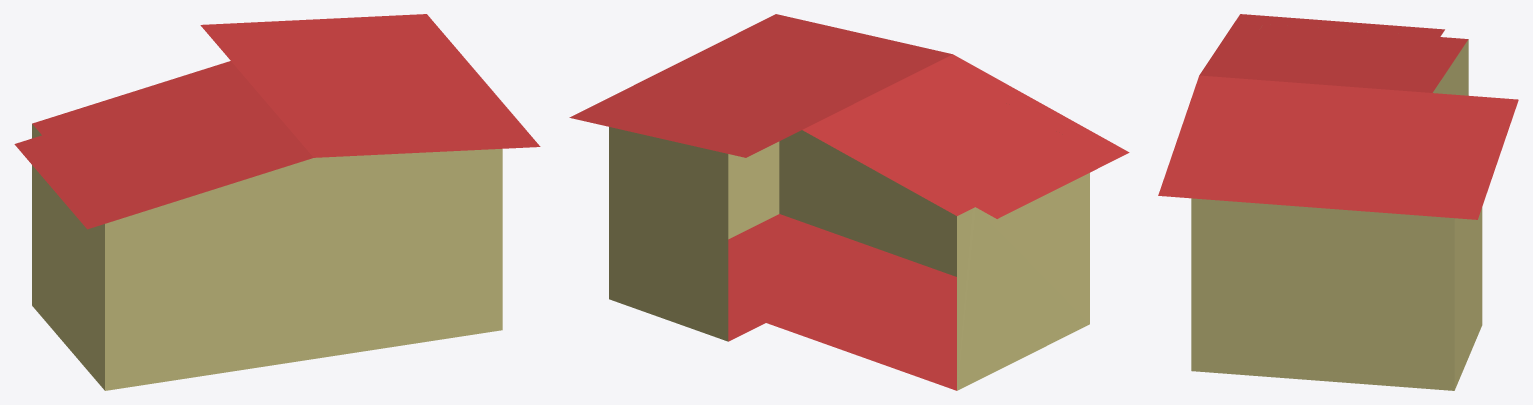
3 renders of one model, left to right at view 1: azimuth 30°, elevation 25°; view 2: azimuth 150°, elevation 25°; view 3: azimuth 270°, elevation 25°, orthographic. The views are drawn at different scales.
Size of the model in its own units: 13.53 by 9.43 by 6.
